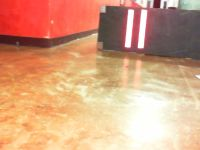switch: (124, 9, 135, 48), (138, 10, 147, 48)
